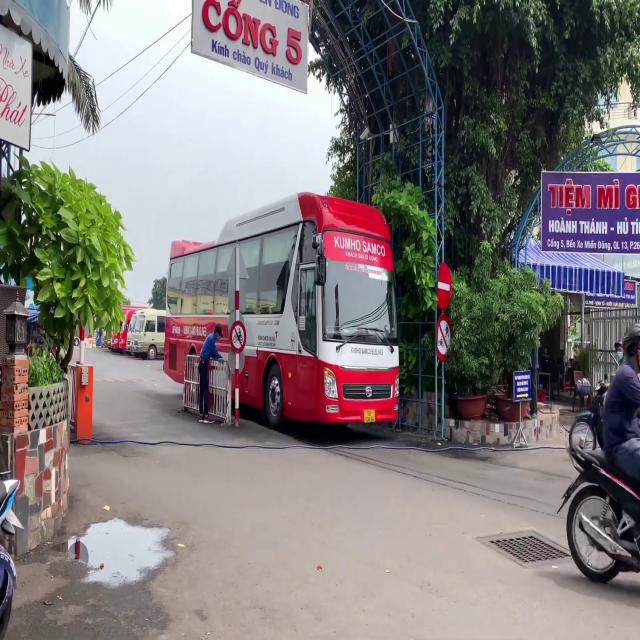bien_vang: (362, 408, 377, 424)
